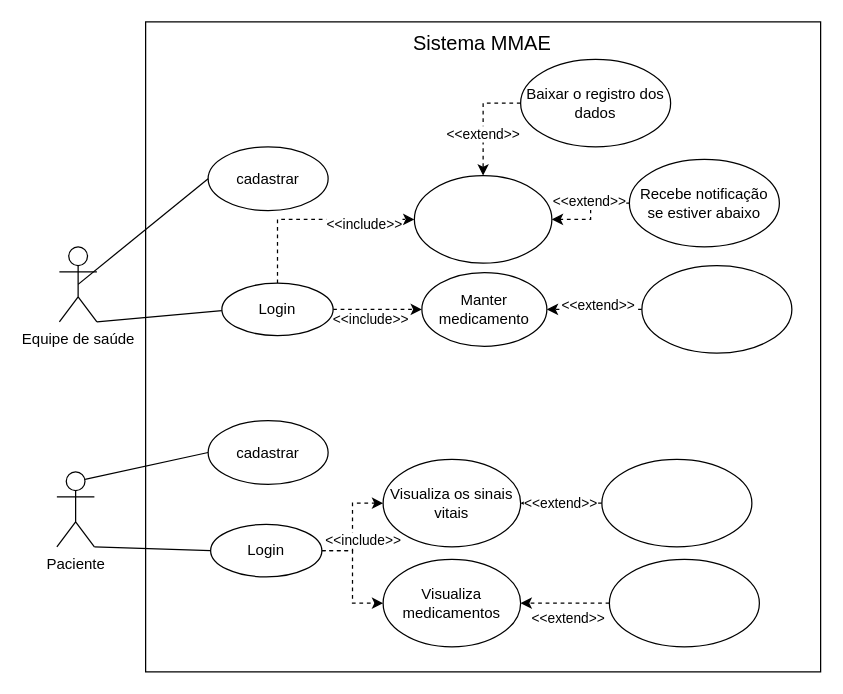
The diagram is 843 pixels wide and 694 high, and some of its shapes have lost their labels. Each missing label, with the centre of its shape:
"Compartilha os dados" goes at (x=676, y=502).
"Manter alarme" goes at (x=716, y=308).
"Recebe notificação de quando deve tormar" goes at (x=683, y=602).
"Visualiza os sinais vitais do paciente" goes at (x=482, y=218).
